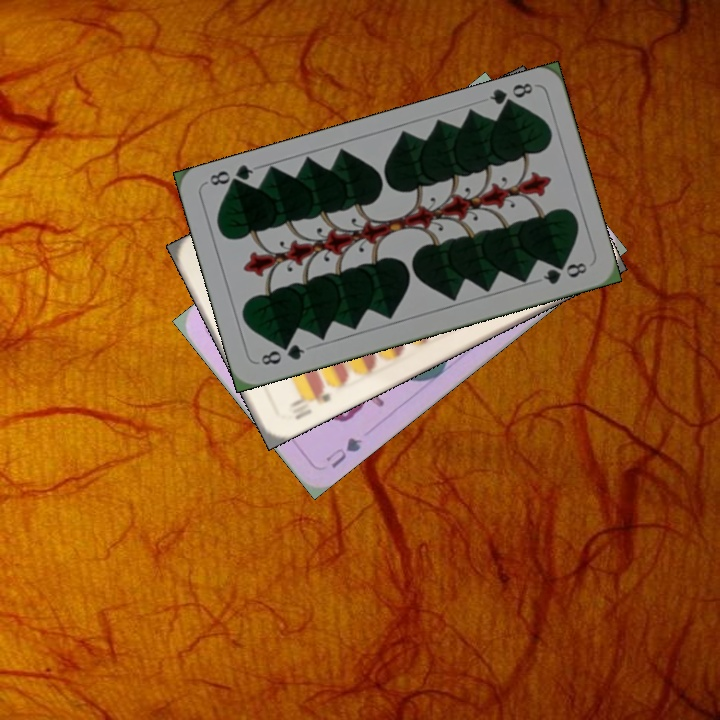E10: (285, 382, 333, 423)
G8: (485, 78, 536, 113), (256, 340, 308, 368)
GU: (322, 433, 365, 471)
